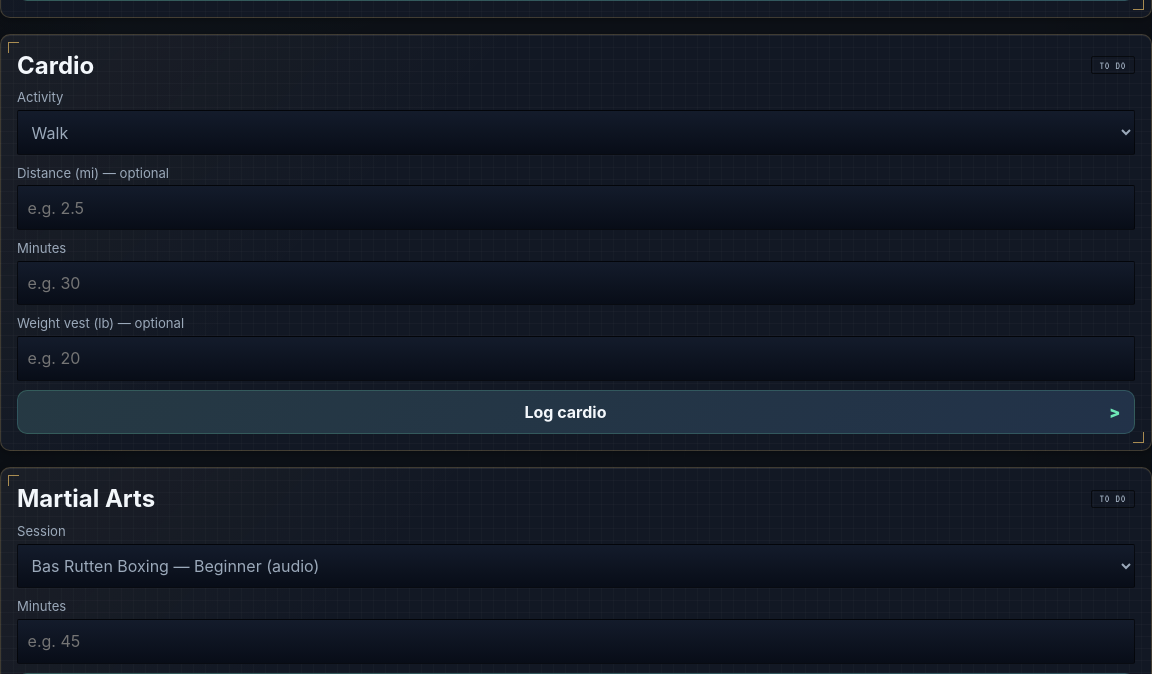
Test: DailyFitness › captures weight-vest load on a cardio log
(page scrolled)
In the number field labelled "Weight vest (lb) — optional": (576, 358) left=17, top=336, right=1135, bottom=381, type "20"
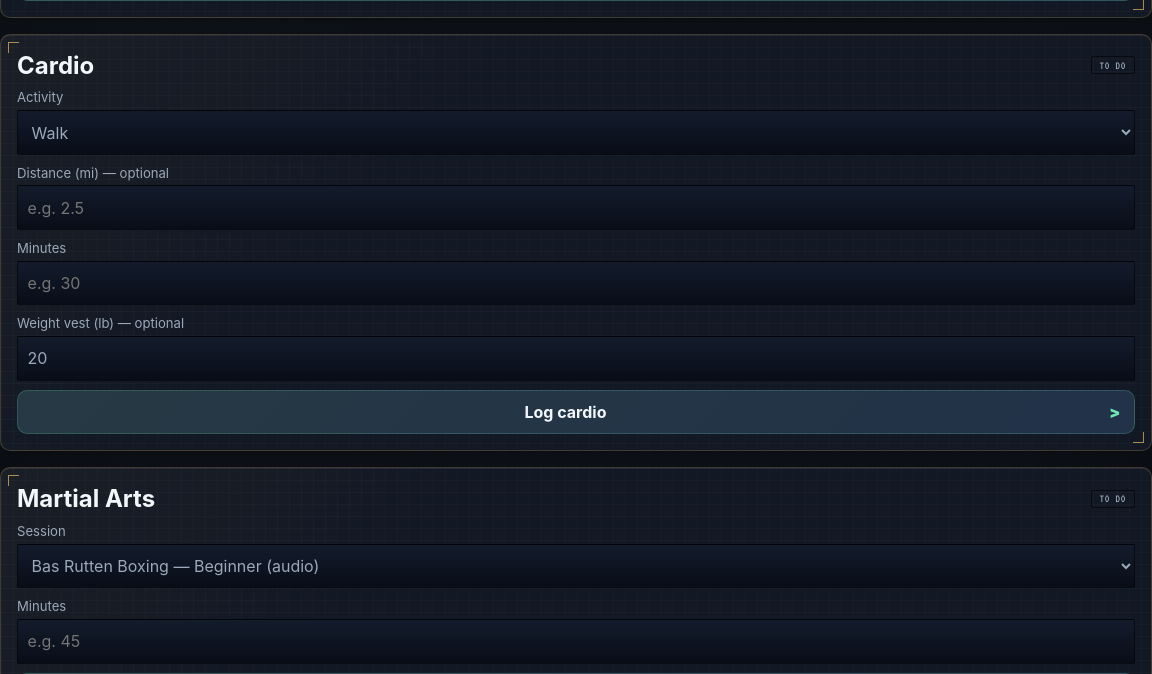
Click the button "Log cardio": (576, 412) left=17, top=390, right=1135, bottom=434
(page scrolled)
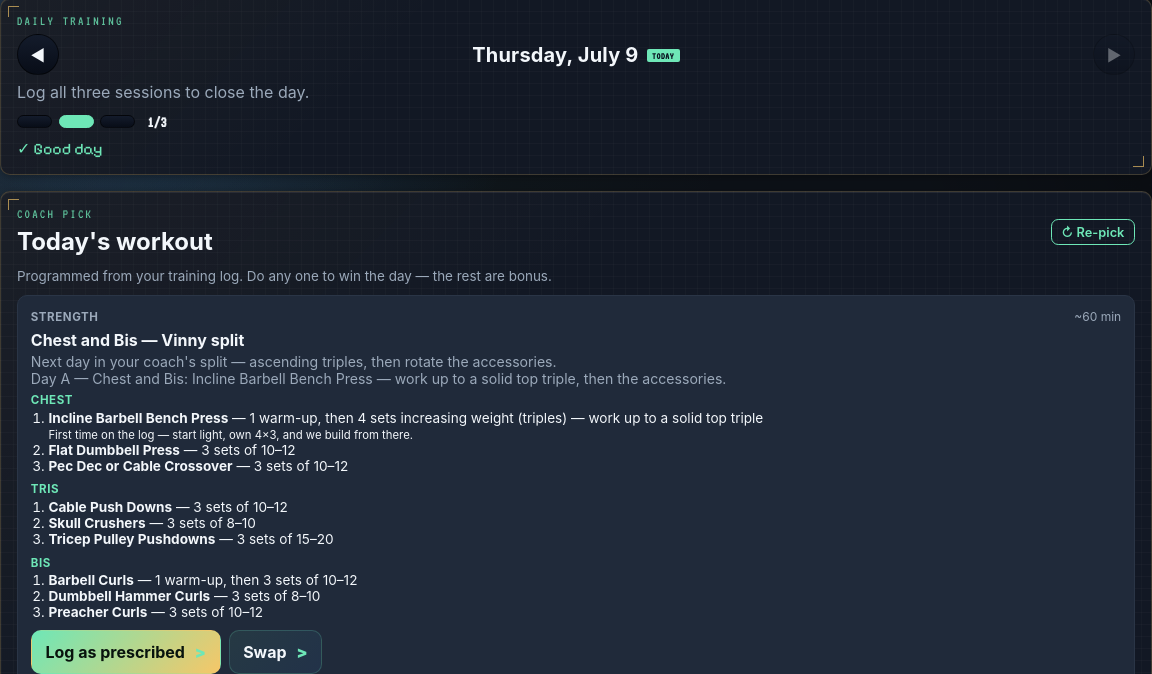
Result: the text "1/3" is shown at left=147, top=114, right=166, bottom=130
